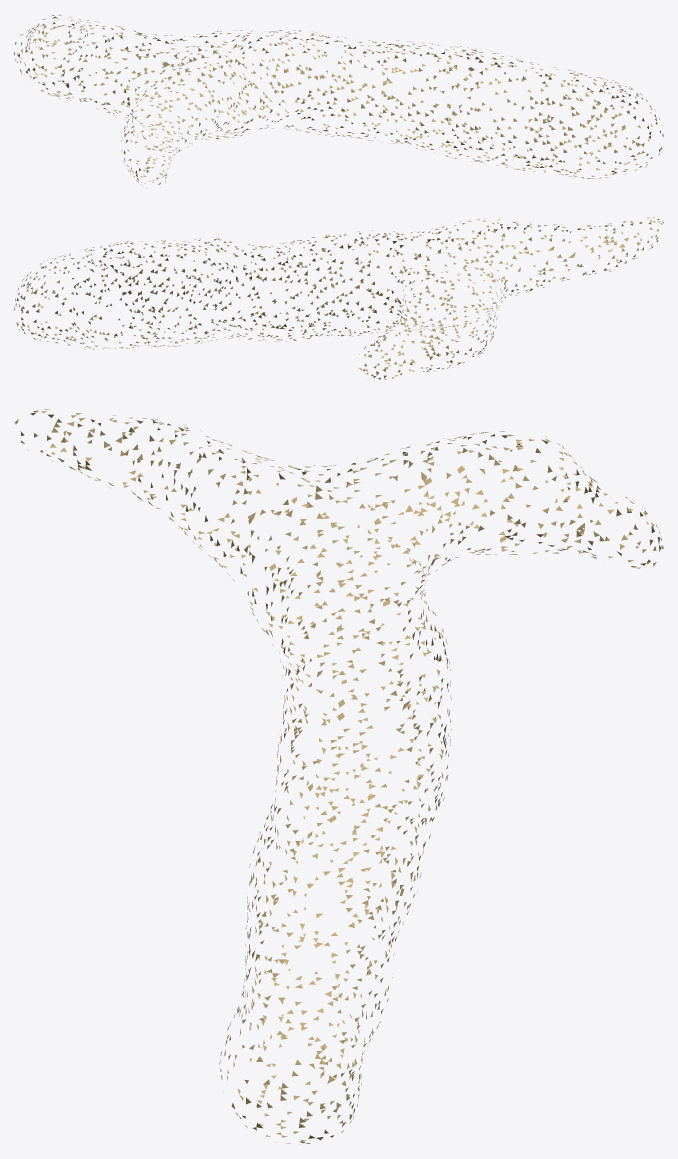
Rendered from morph_007.glb.
3 views of the same model, one above another, from view 1: azimuth 30°, elevation 25°; view 2: azimuth 150°, elevation 25°; view 3: azimuth 270°, elevation 25° (orthographic). The views are drawn at different scales.
Bounding box in the file's own units: 107 × 37.6 × 65.51.
